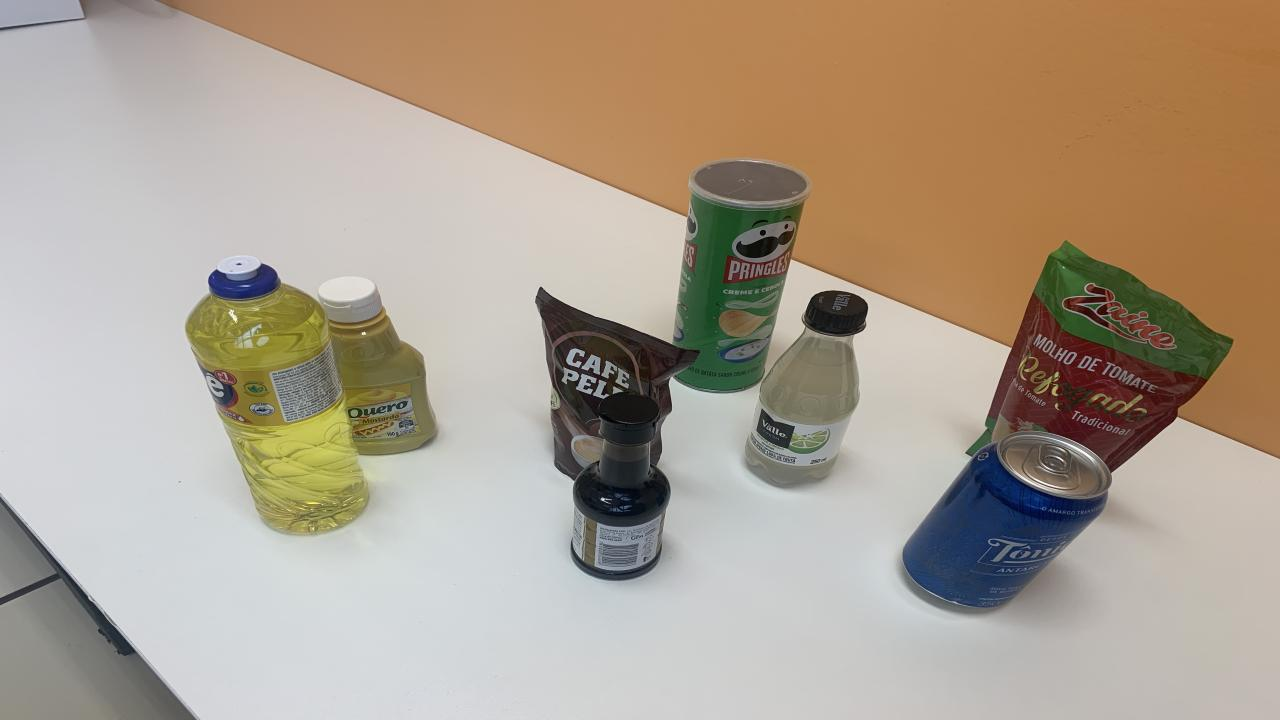Coffee-Pantry_Items: (535, 289, 698, 478)
Detergent-Cleanup_Items: (185, 257, 368, 532)
English_Sauce-Pantry_Items: (570, 394, 670, 579)
Mustard-Pantry_Items: (318, 276, 435, 454)
Pringles-Snacks: (672, 158, 810, 392)
Soda-Drinks: (745, 291, 868, 486)
Tomato_Sauce-Pantry_Items: (968, 242, 1232, 471)
Tonic-Drinks: (902, 431, 1110, 608)
